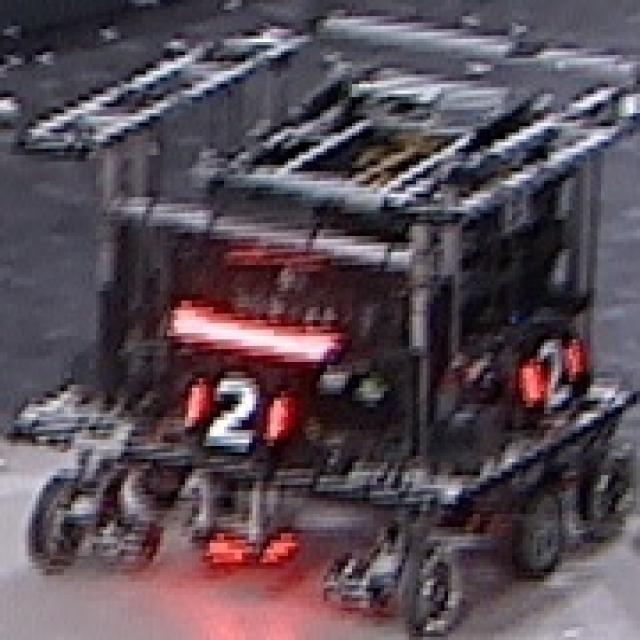R2: (180, 365, 294, 453), (514, 333, 596, 414)
